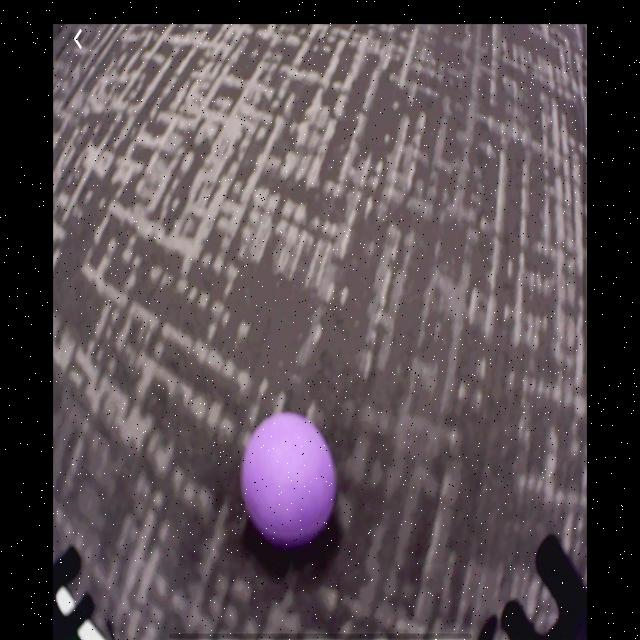ball: (241, 412, 336, 548)
